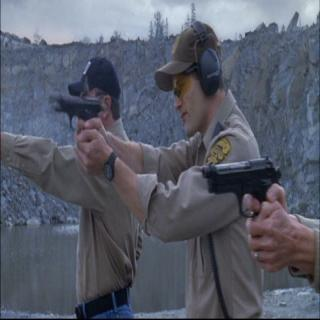gun: (202, 153, 292, 281), (54, 85, 112, 172)
